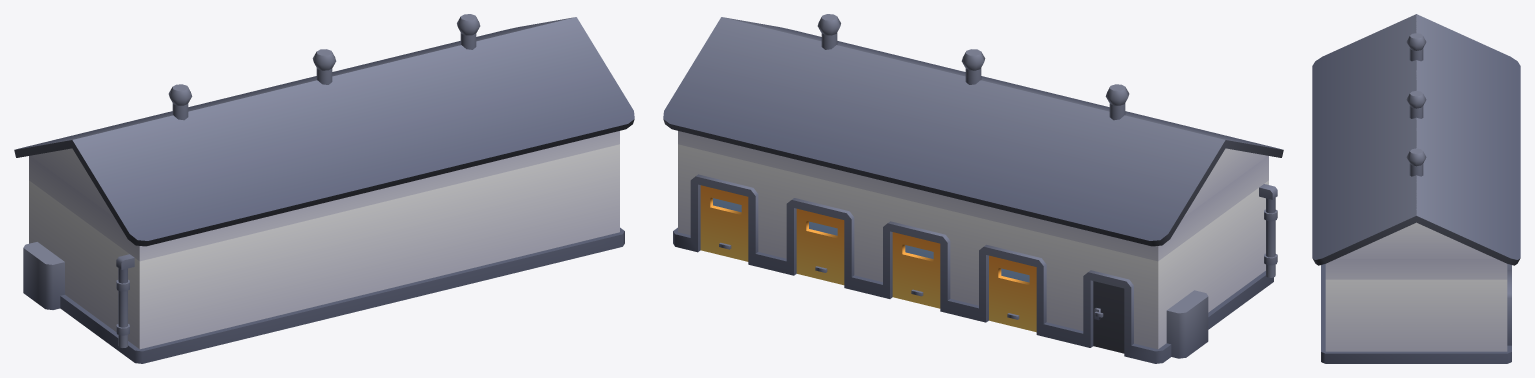
Rendered from building-s_lev1.glb.
3 renders of one model, left to right at view 1: azimuth 30°, elevation 25°; view 2: azimuth 150°, elevation 25°; view 3: azimuth 270°, elevation 25°, orthographic. The views are drawn at different scales.
Parts seen in each view (by area): view 1: building-s_lev1; view 2: building-s_lev1; view 3: building-s_lev1.
Boxes of the visible parts, bbox=[...] form: building-s_lev1: bbox=[14, 14, 634, 363]; building-s_lev1: bbox=[663, 14, 1283, 363]; building-s_lev1: bbox=[1312, 14, 1520, 363].
Size of the model in its own units: 11.64 by 4.6 by 5.03.
1 material, 1 textured.
